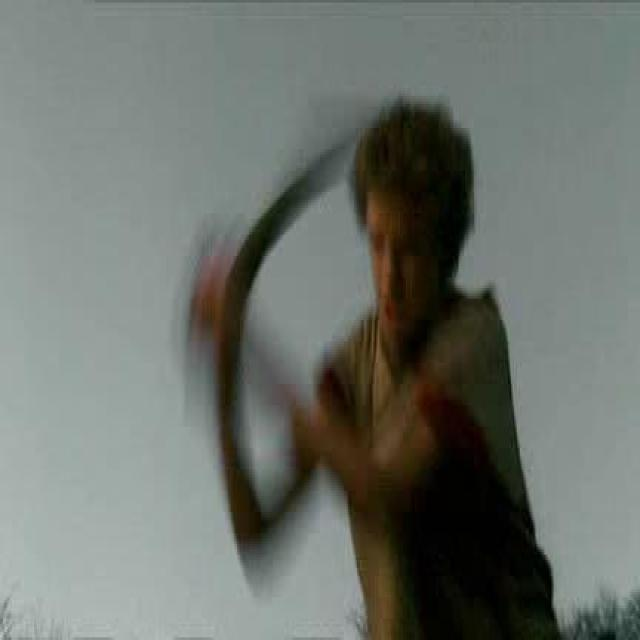fight: (163, 40, 560, 640)
